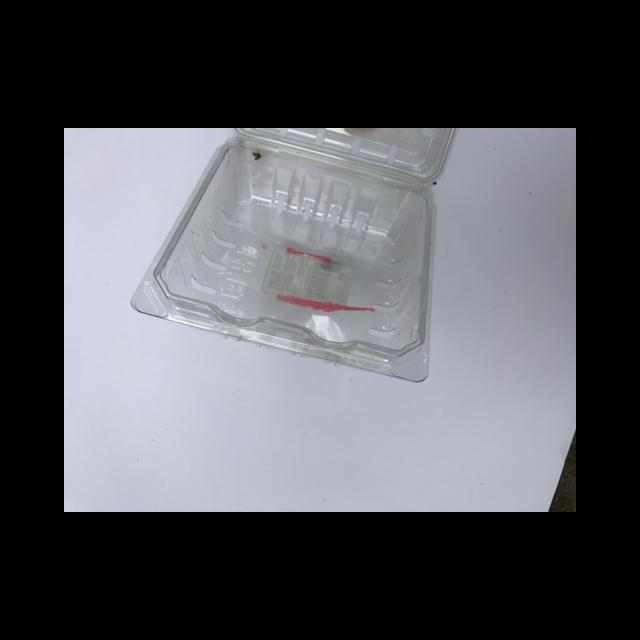plastic: (129, 135, 435, 381), (230, 128, 455, 184)
